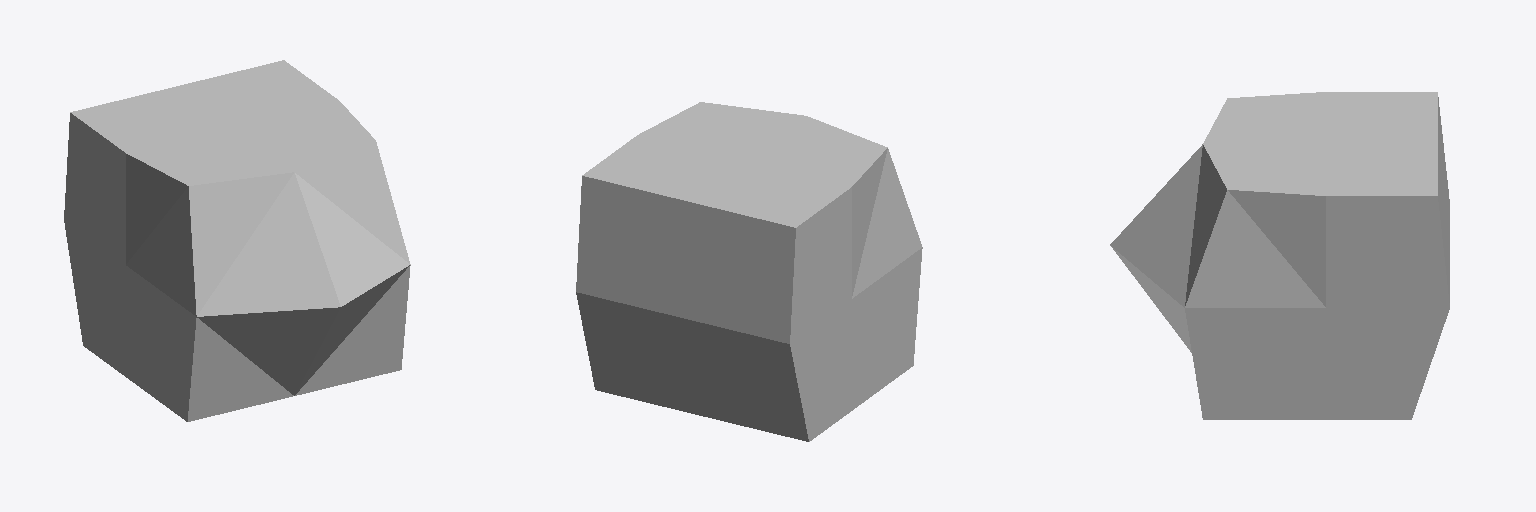
Rendered from PlayerFace.obj.
3 views of the same model, side by side, from view 1: azimuth 30°, elevation 25°; view 2: azimuth 150°, elevation 25°; view 3: azimuth 270°, elevation 25° (orthographic).
Visible parts, largest first — view 1: Cube; view 2: Cube; view 3: Cube.
Part boxes in pixels (left/top/right/bottom): Cube: left=64, top=60, right=410, bottom=421; Cube: left=576, top=102, right=922, bottom=441; Cube: left=1110, top=92, right=1449, bottom=419.
Bounding box in the file's own units: 2 × 2 × 2.75.